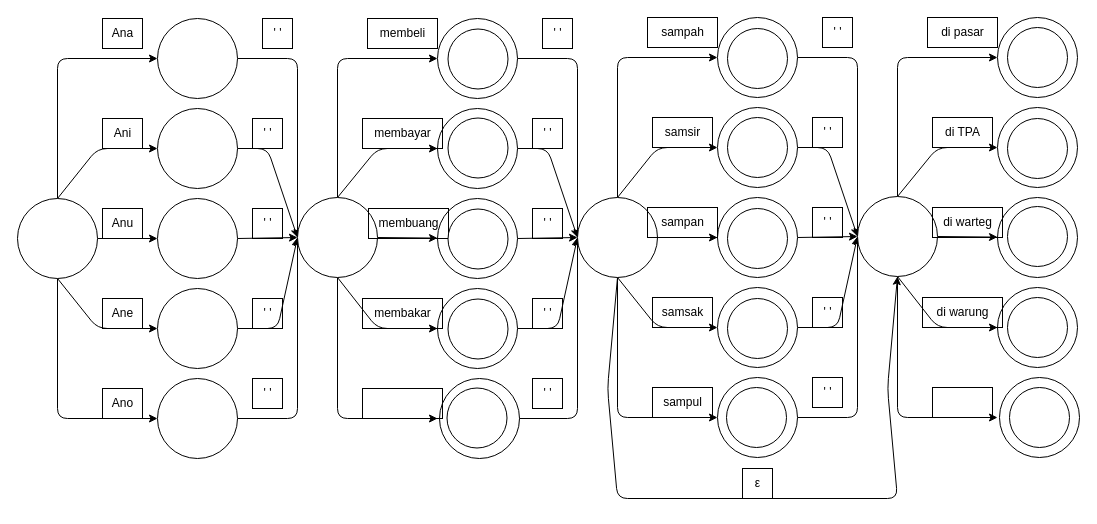
Image size: 1097x524. Some labels were removed from this diagram. The shapes that lost their labels are listed below. From the top down, each one's box as (x1, y1, x2, y2) in pixels, then its label:
(362, 388, 442, 418): membaca
(932, 386, 992, 418): di plaza
